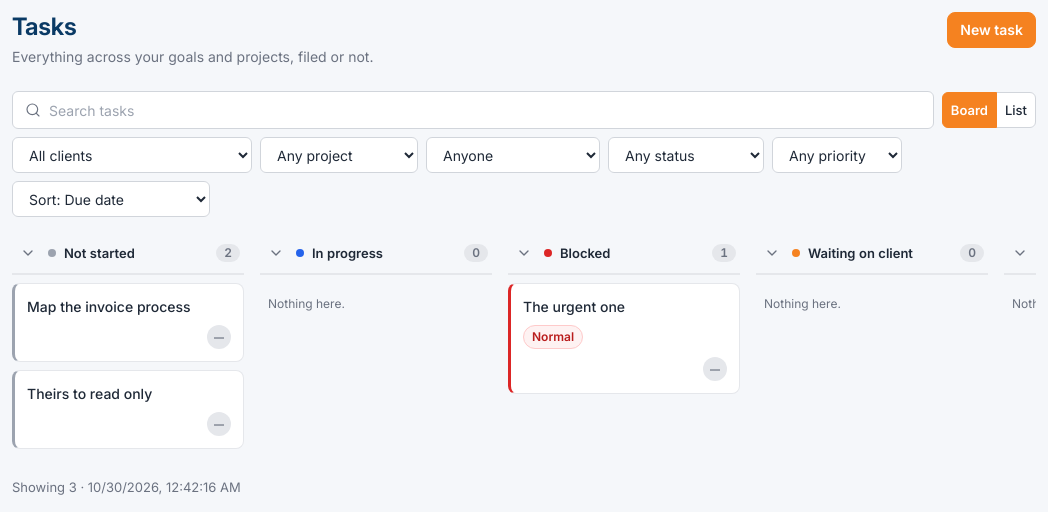
Test case: the board keeps its sideways scroll through a filter › the priority filter, which never asks the server, leaves it in place too
Expected: the element named "Board" is shown, left=12, top=233, right=1036, bottom=465
Select "Urgent" in the dropdown named "Filter by priority" at point(837, 155), box left=772, top=137, right=902, bottom=173
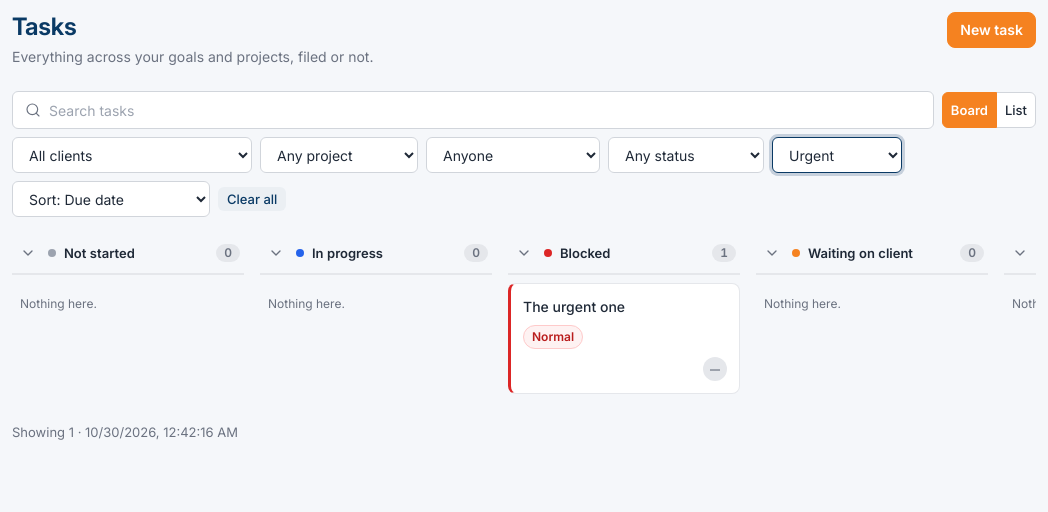
Expected: the link "The urgent one" is shown, left=523, top=298, right=625, bottom=315
Now the link "Map the invoice process" is gone
